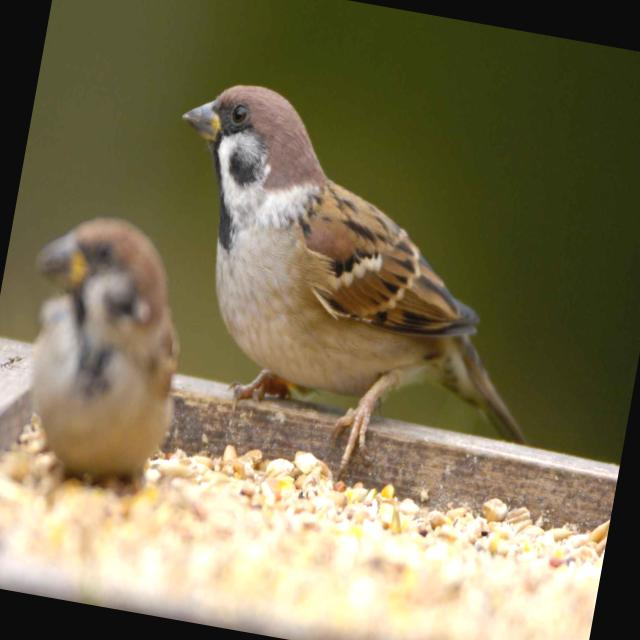bird: (124, 66, 582, 503), (0, 200, 207, 506)
